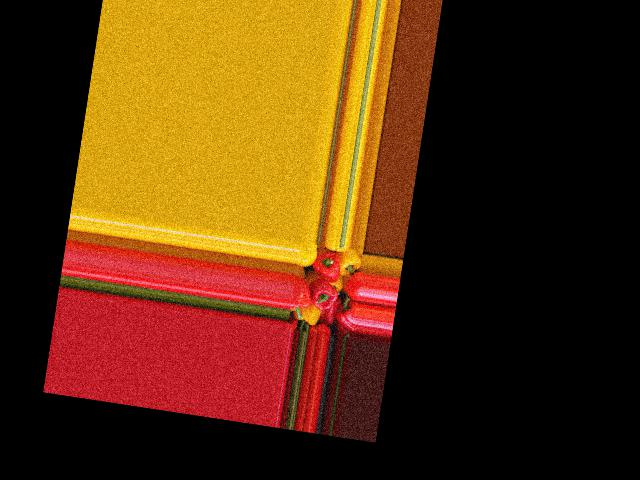bell_pepper: (335, 247, 361, 275)
